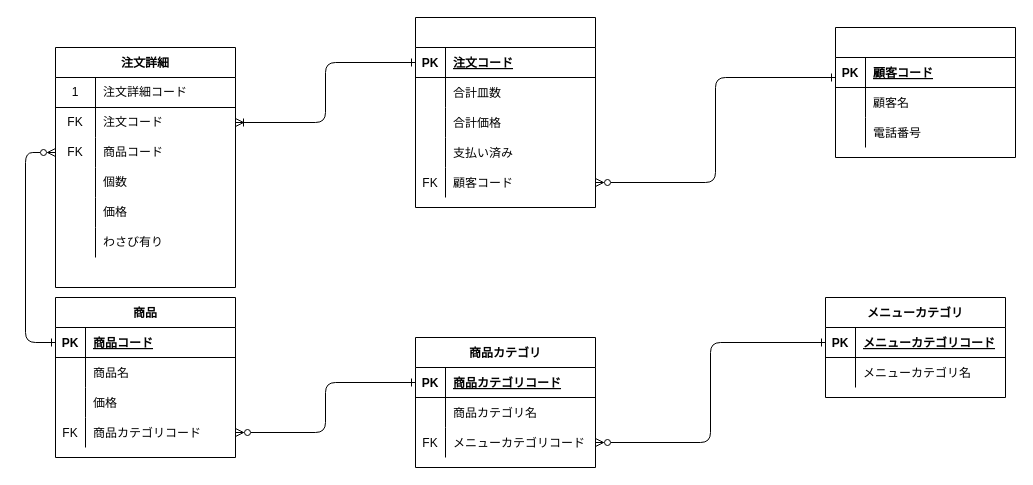
Image size: 1033x485. Some labels were removed from this diagram. Each missing label, with the box of its shape:
注文表: (414, 16, 596, 208)
顧客: (834, 26, 1016, 158)
